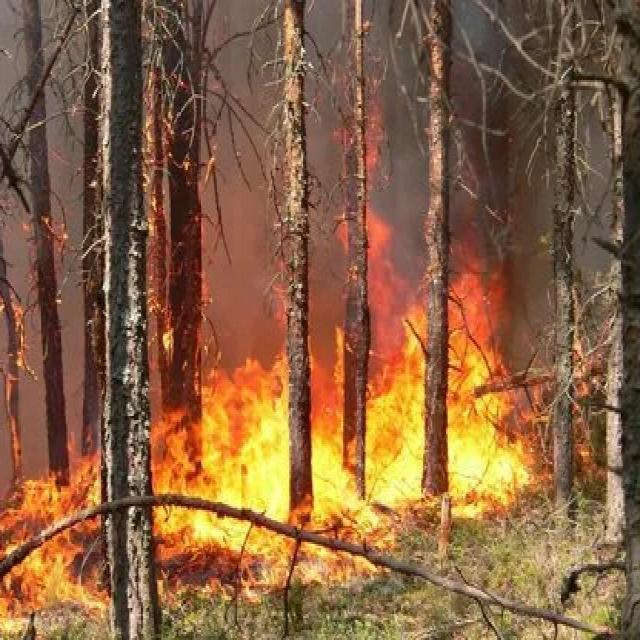Fire: (128, 348, 570, 606)
